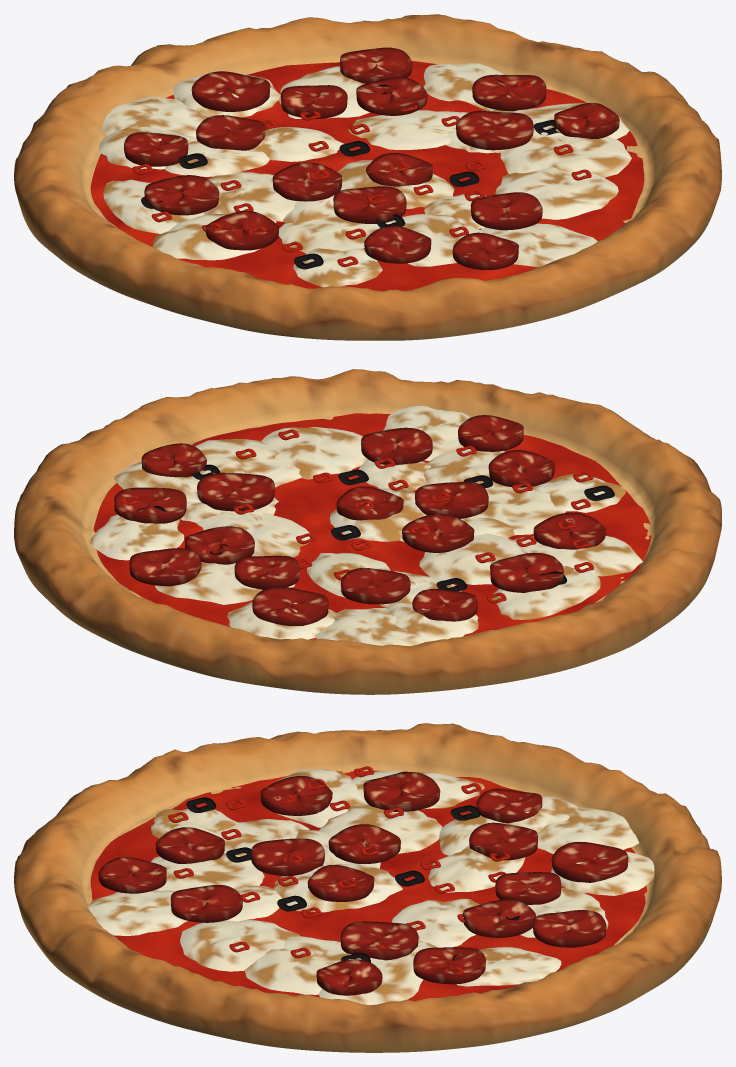
File: pizza_diavola.glb
3 renders of one model, top to bottom at view 1: azimuth 30°, elevation 25°; view 2: azimuth 150°, elevation 25°; view 3: azimuth 270°, elevation 25°, orthographic.
Visible parts, largest first — view 1: dough, sauce, cheese13, cheese17, cheese11, cheese20, cheese0, cheese1, pep2, pep3, pep0, cheese12 (+28 smaller); view 2: dough, sauce, cheese17, cheese1, cheese3, cheese10, cheese13, cheese11, cheese20, cheese12, pep2, pep3 (+29 smaller); view 3: dough, sauce, cheese17, cheese13, cheese0, cheese20, cheese1, cheese11, cheese18, cheese10, pep3, pep2 (+28 smaller).
Part boxes in pixels (box(x1,y1,x2,y2)): dough: box(14, 14, 721, 340); sauce: box(90, 61, 644, 291); cheese13: box(500, 135, 631, 177); cheese17: box(495, 167, 618, 219); cheese11: box(348, 110, 468, 149); cheese20: box(102, 97, 209, 137); cheese0: box(480, 223, 597, 267); cheese1: box(203, 172, 295, 221); pep2: box(456, 111, 533, 150); pep3: box(191, 71, 270, 111); pep0: box(144, 175, 219, 215); cheese12: box(278, 214, 391, 253); dough: box(14, 369, 721, 694); sauce: box(93, 413, 651, 639); cheese17: box(261, 427, 367, 479); cheese1: box(419, 533, 528, 584); cheese3: box(491, 566, 600, 619); cheese10: box(90, 514, 183, 560); cheese13: box(195, 439, 301, 487); cheese11: box(196, 511, 309, 557); cheese20: box(315, 608, 423, 645); cheese12: box(477, 486, 565, 535); pep2: box(197, 472, 275, 511); pep3: box(252, 586, 328, 626); dough: box(14, 723, 721, 1052); sauce: box(90, 770, 647, 1001); cheese17: box(180, 919, 299, 971); cheese13: box(244, 936, 345, 994); cheese0: box(88, 890, 187, 935); cheese20: box(537, 807, 638, 853); cheese1: box(319, 804, 442, 853); cheese11: box(391, 898, 480, 947); cheese18: box(428, 845, 525, 892); cheese10: box(456, 946, 561, 986); pep3: box(551, 842, 628, 882); pep2: box(340, 921, 418, 960).
Bounding box in the file's own units: 2.01 × 0.1346 × 2.
